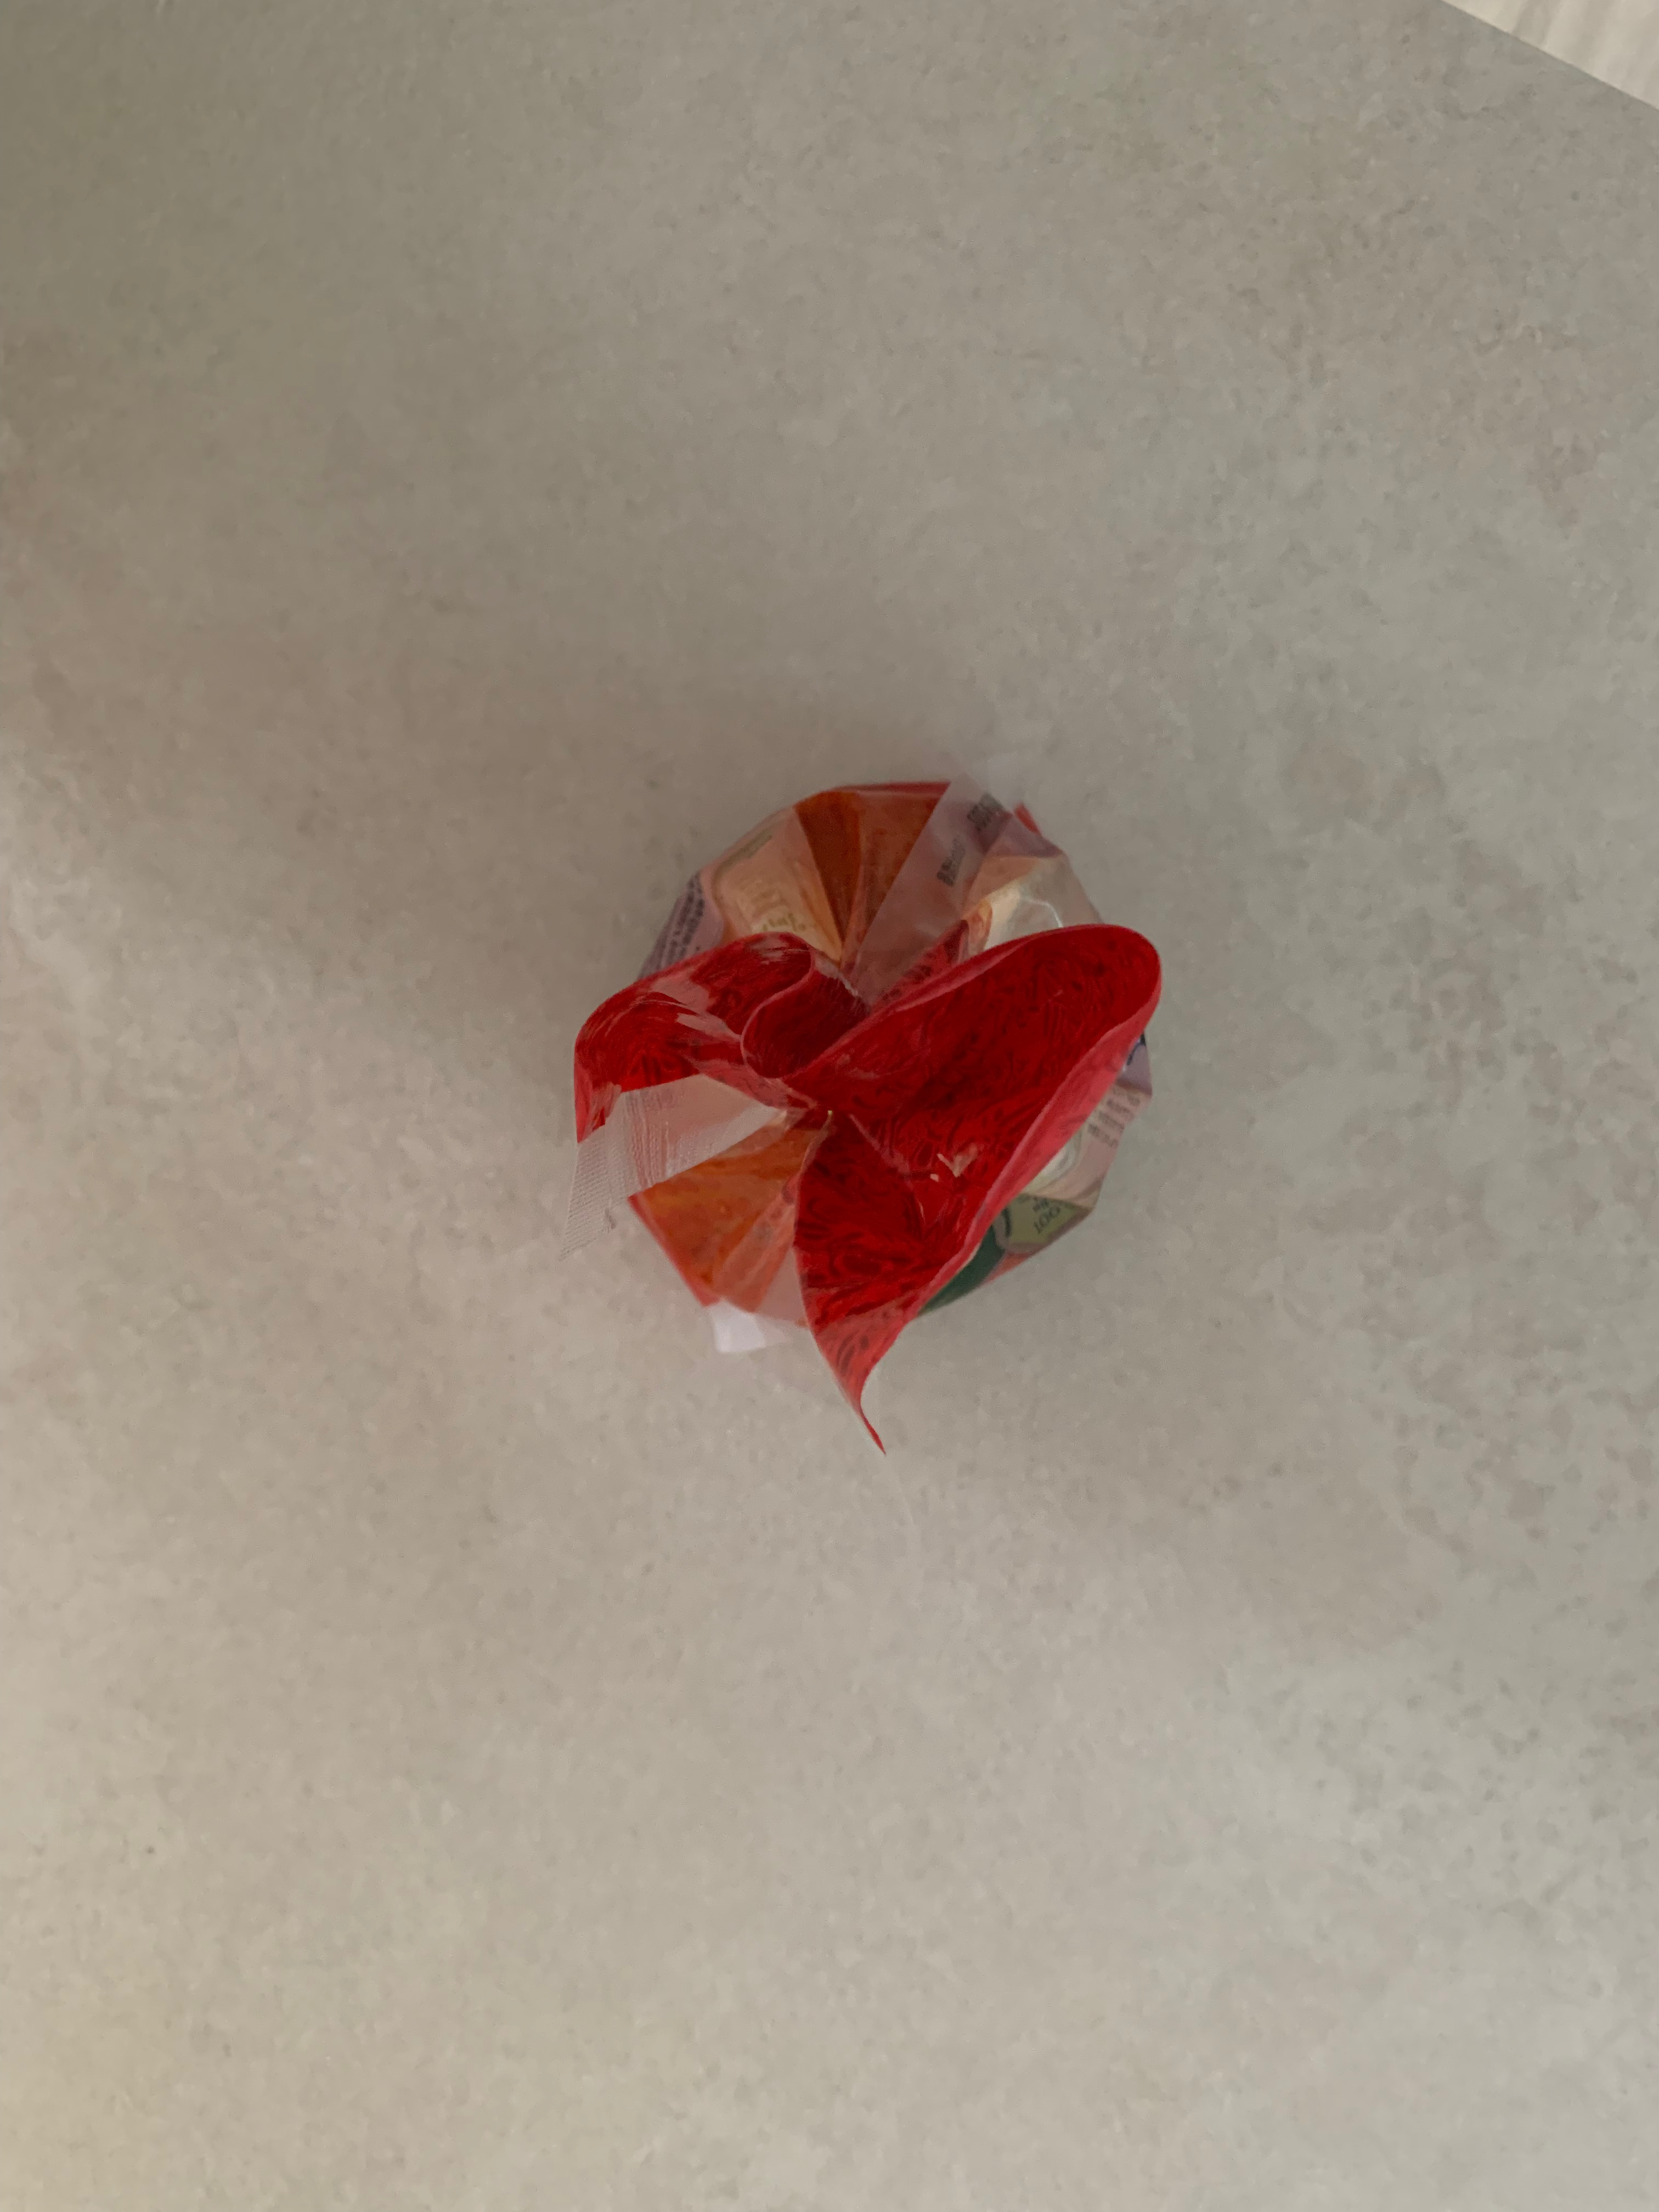kimchi: (577, 777, 1161, 1329)
